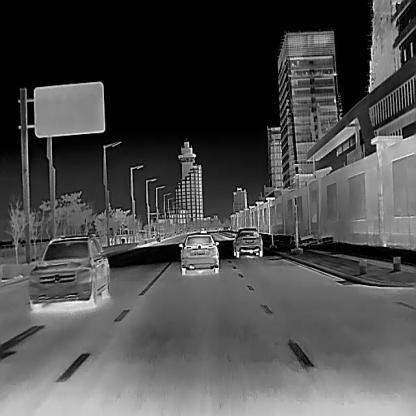car: (28, 236, 110, 302), (178, 233, 218, 274), (233, 226, 262, 257), (200, 226, 207, 233)
